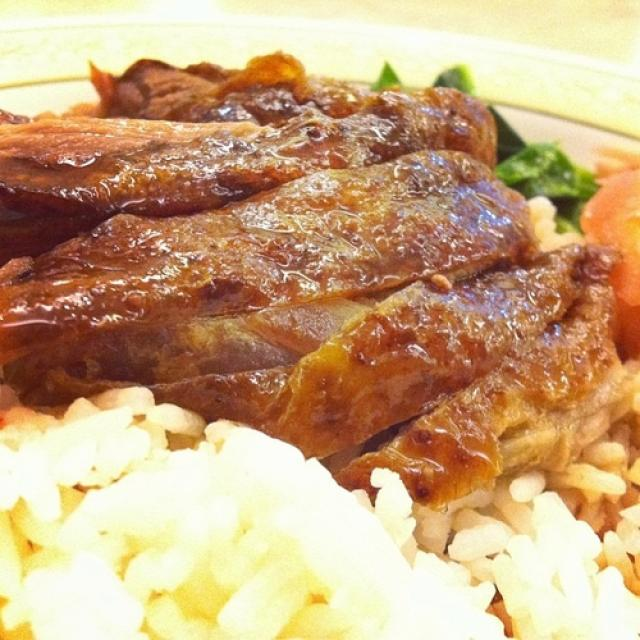米饭主食: (15, 42, 616, 634)
